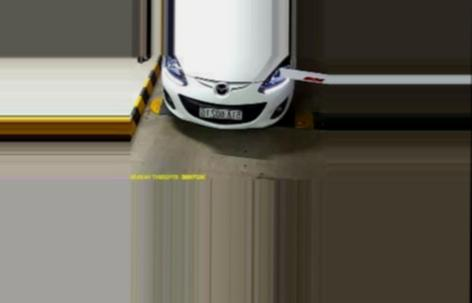License_Plate: (198, 105, 243, 121)
